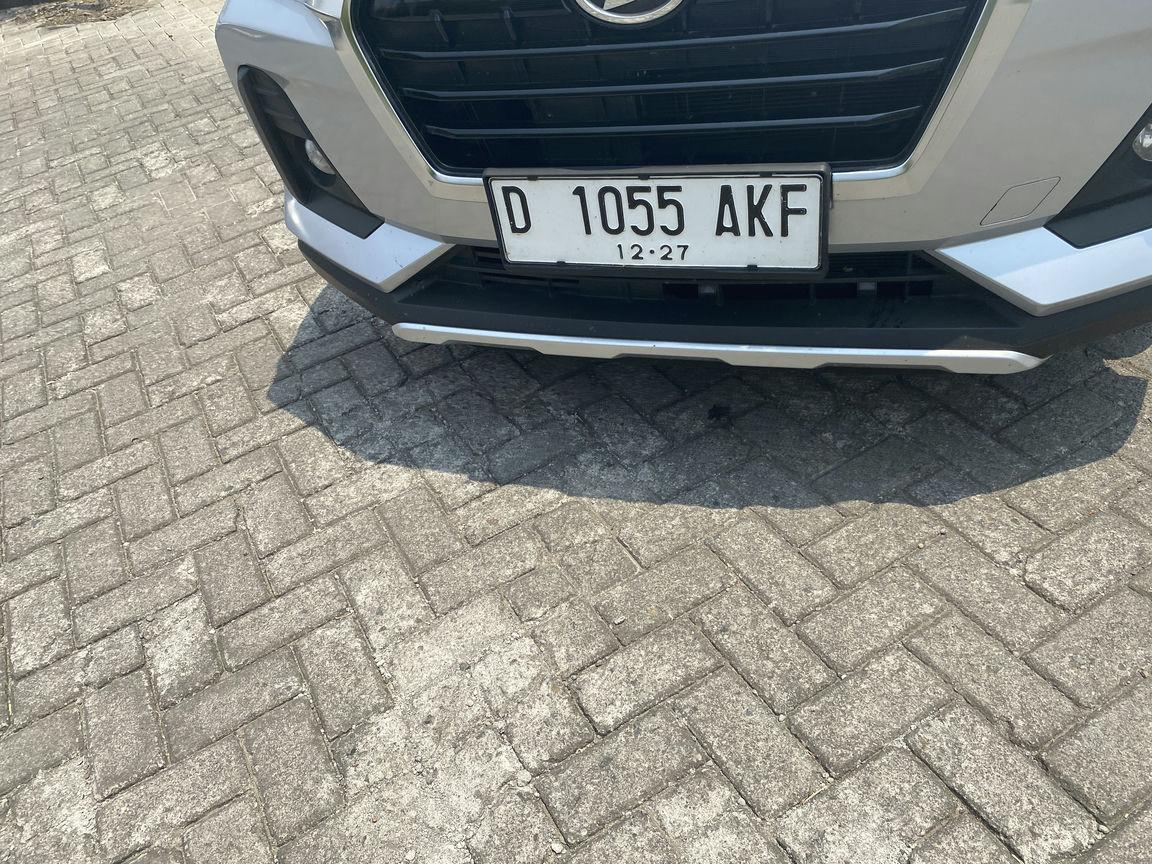plat: (488, 173, 826, 270)
